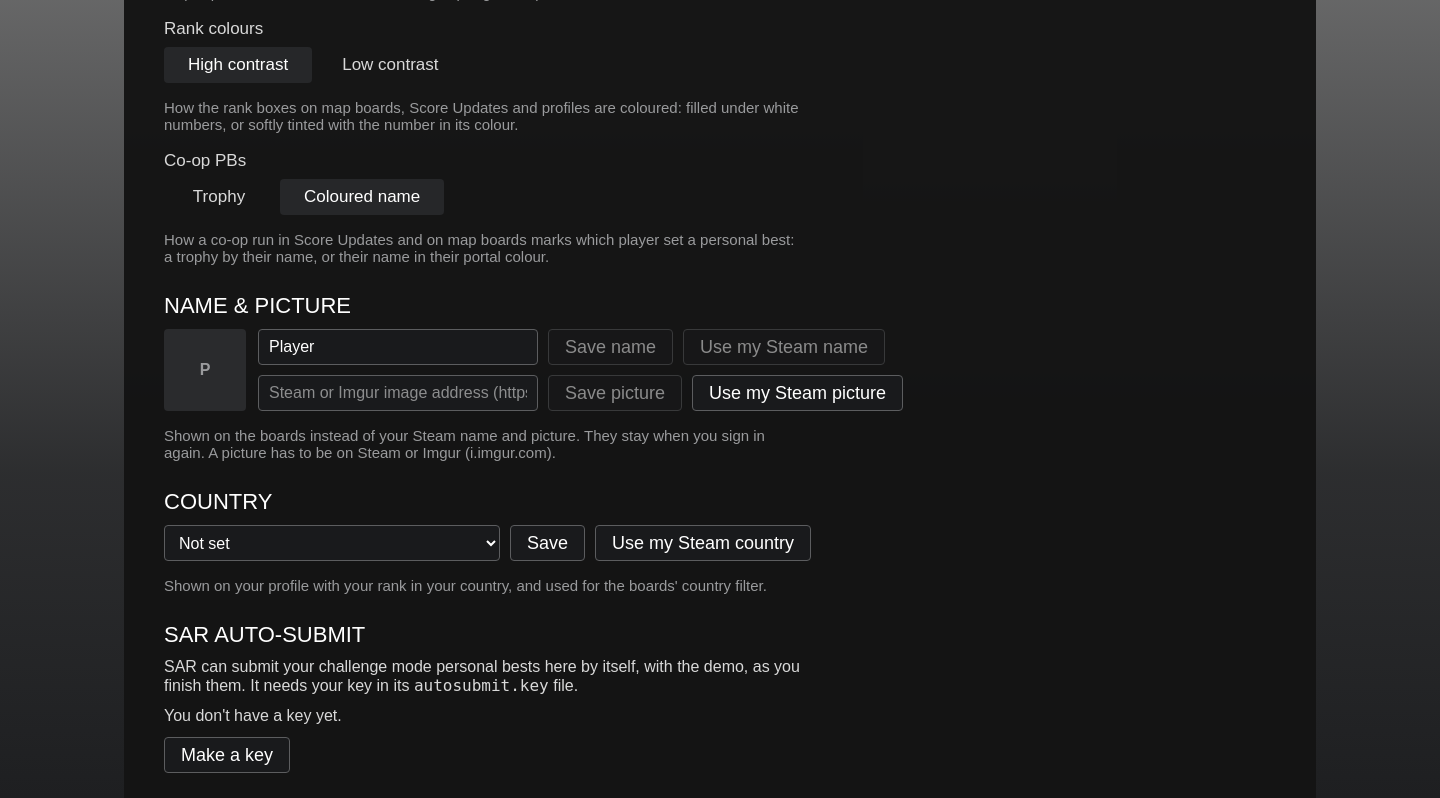
Test: Settings › shows why a picture was refused and keeps the address to fix
(page scrolled)
In the field named "Picture address": (398, 393) left=258, top=375, right=538, bottom=411, type "https://evil.example/pixel.png"
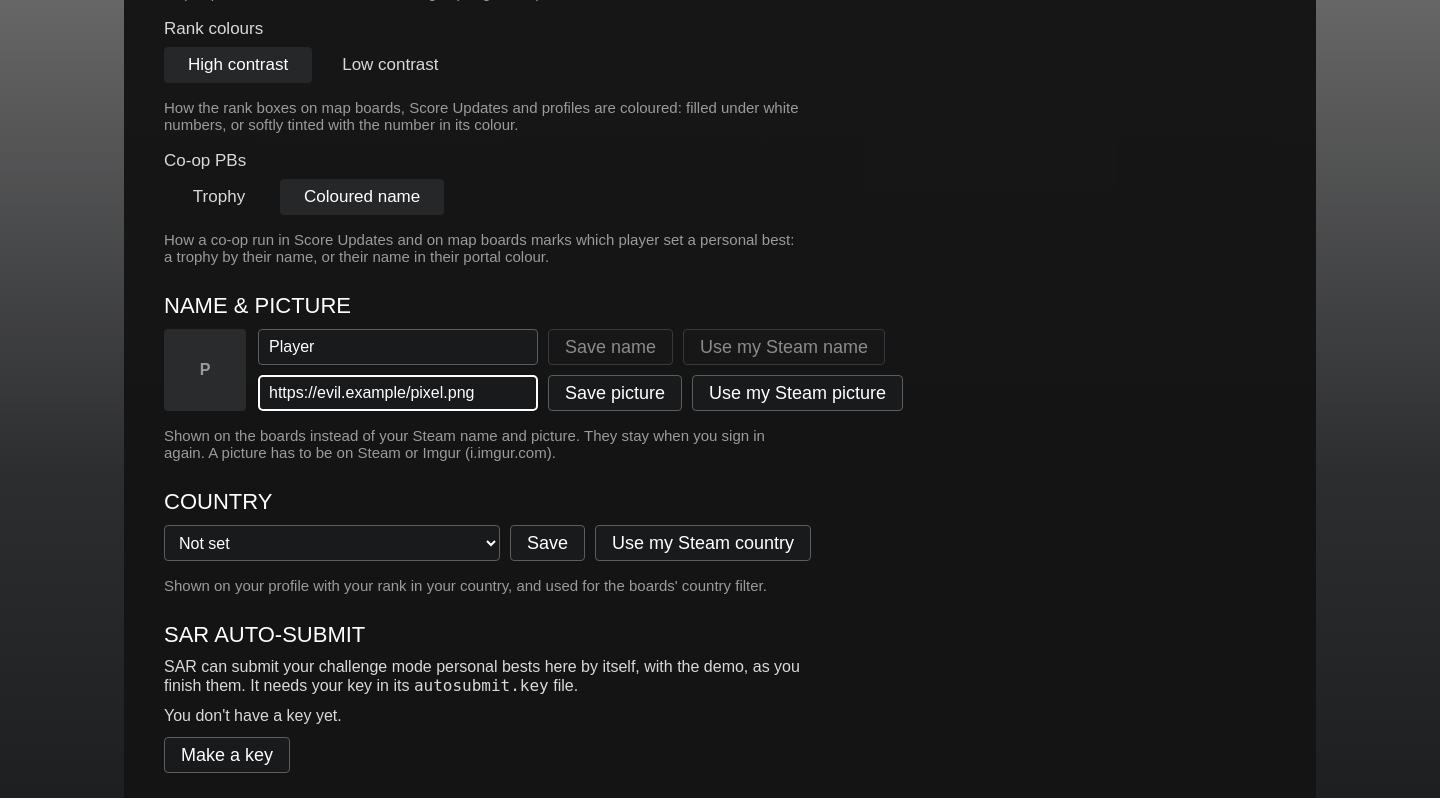
Click the button "Save picture": (615, 393) left=548, top=375, right=682, bottom=411
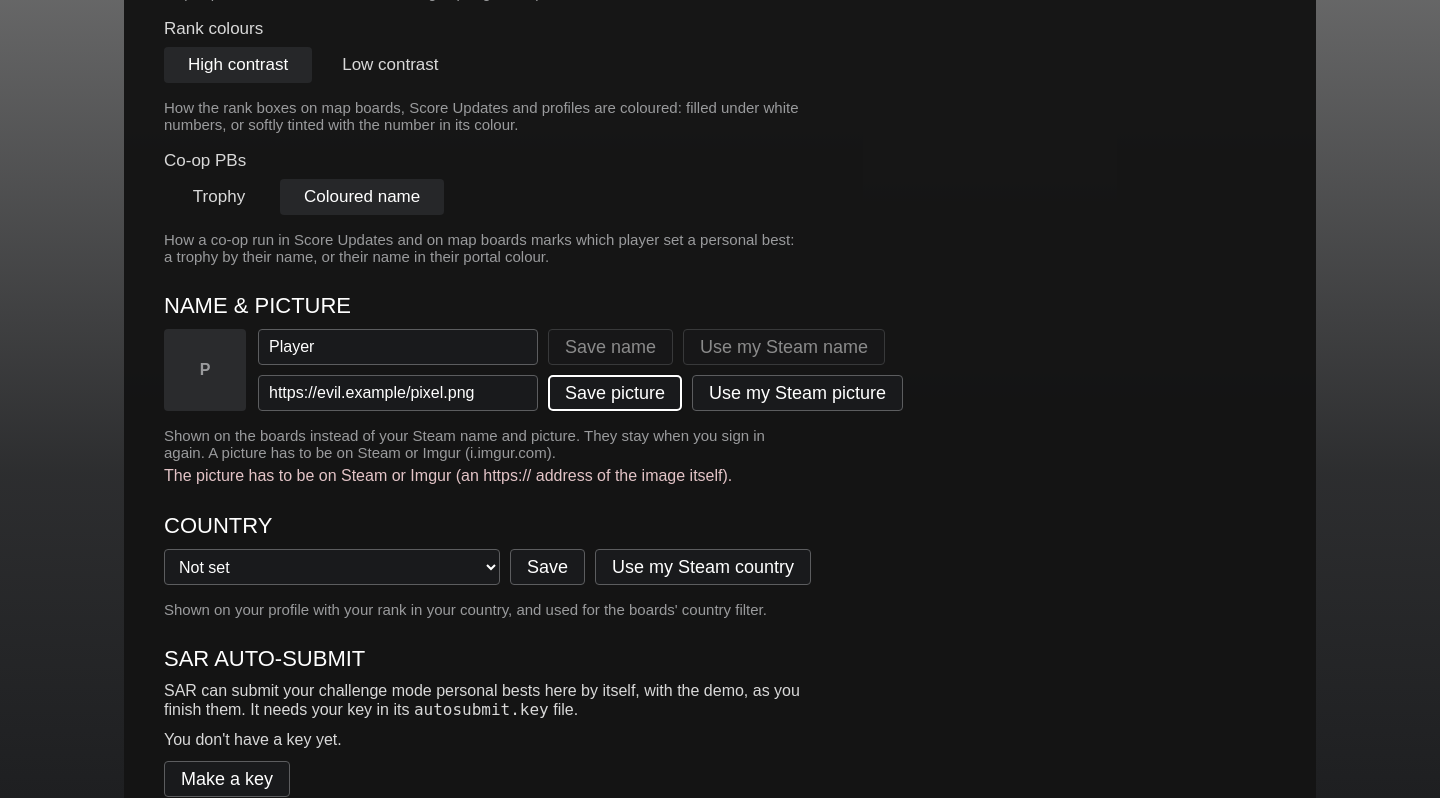
Now the text "The picture has to be on Steam or Imgur (an https:// address of the image itself)." is shown, box left=164, top=467, right=732, bottom=484
